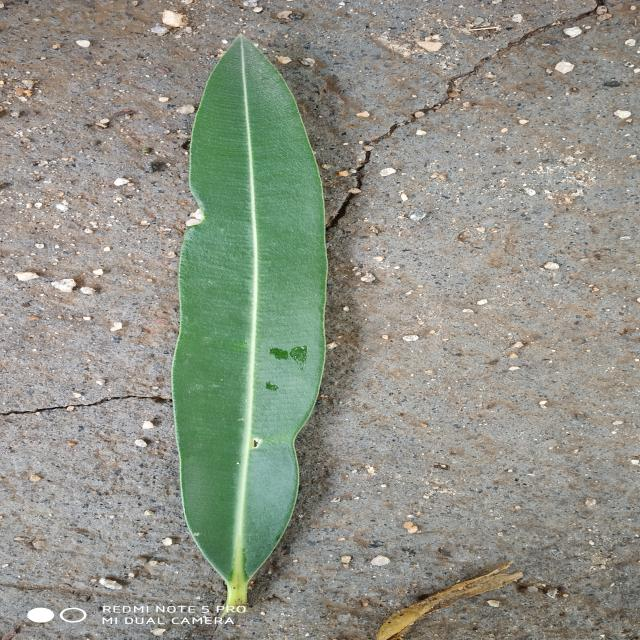ganigale: (171, 36, 327, 614)
